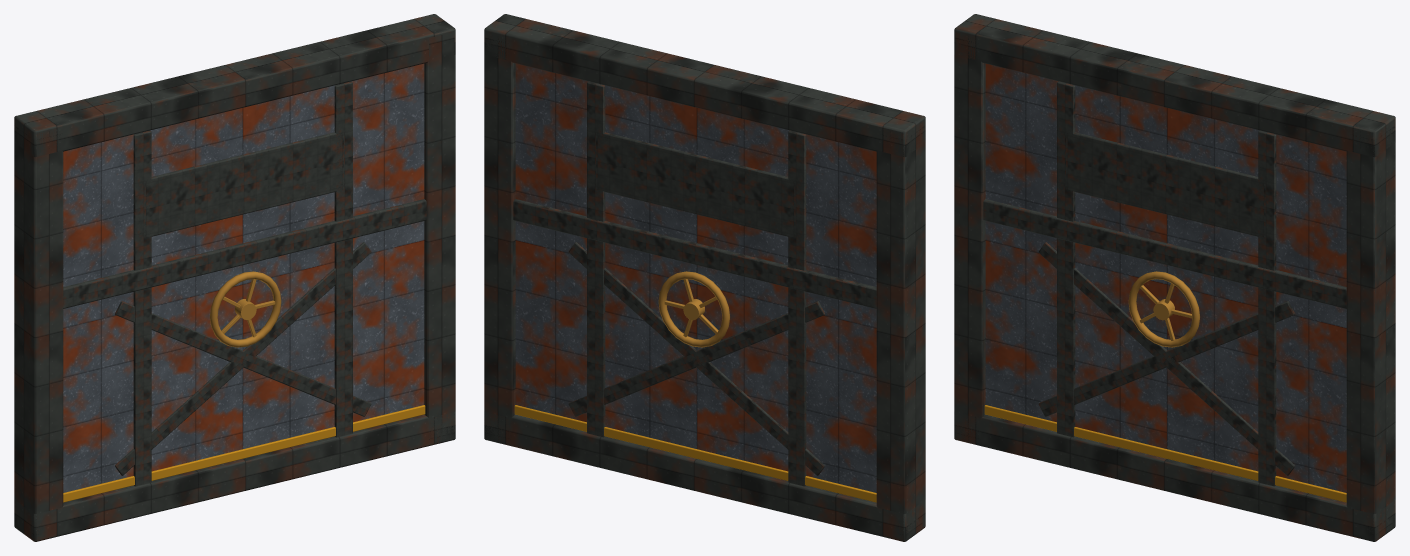
The model's file is blast_door.glb.
3 views of the same model, side by side, from view 1: azimuth 30°, elevation 25°; view 2: azimuth 150°, elevation 25°; view 3: azimuth 330°, elevation 25° (orthographic).
Visible parts, largest first — view 1: BlastDoor; view 2: BlastDoor; view 3: BlastDoor.
Part boxes in pixels (x1,y1,x2,y2): BlastDoor: [14, 14, 455, 541]; BlastDoor: [484, 14, 925, 541]; BlastDoor: [954, 14, 1395, 541].
Bounding box in the file's own units: 3.44 × 3.21 × 0.39.
Materials: 4 (2 with a texture image).
